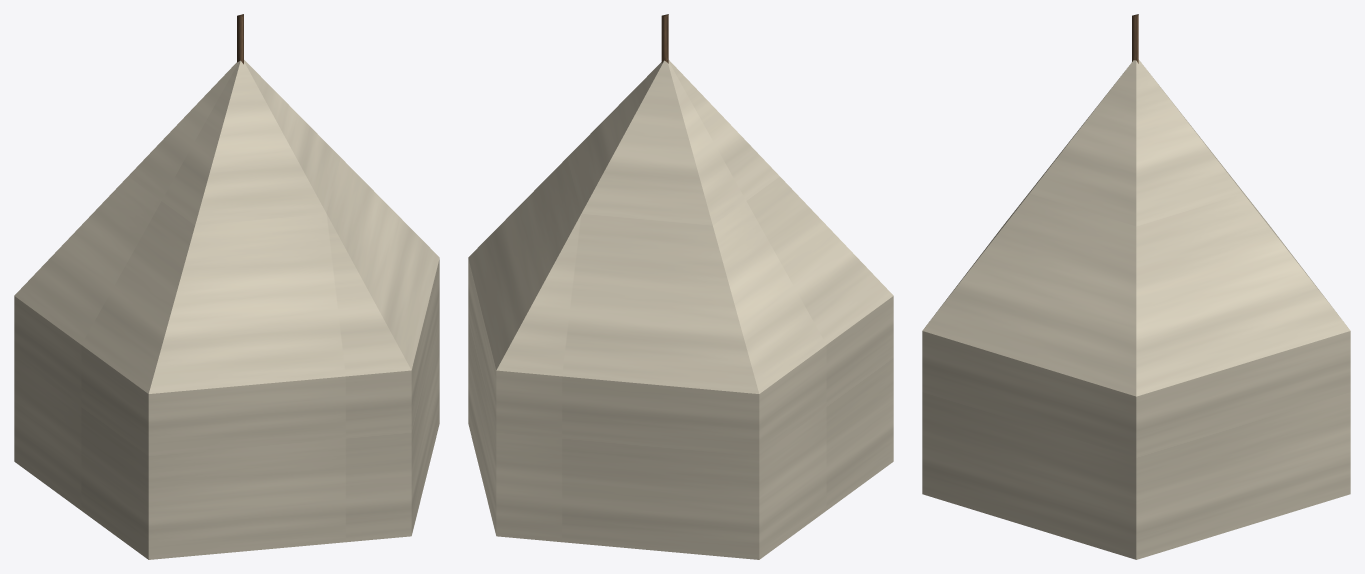
Rendered from Tent_Pavilion_1_LOD2.gltf.
3 views of the same model, side by side, from view 1: azimuth 30°, elevation 25°; view 2: azimuth 150°, elevation 25°; view 3: azimuth 270°, elevation 25° (orthographic).
Visible parts, largest first — view 1: Tent_Pavilion_1_LOD2; view 2: Tent_Pavilion_1_LOD2; view 3: Tent_Pavilion_1_LOD2.
Boxes of the visible parts, left/top/right/bottom form: Tent_Pavilion_1_LOD2: left=14, top=14, right=439, bottom=559; Tent_Pavilion_1_LOD2: left=468, top=14, right=893, bottom=559; Tent_Pavilion_1_LOD2: left=922, top=14, right=1350, bottom=559.
Size of the model in its own units: 3.62 by 4.4 by 3.8.
Materials: 2 (2 with a texture image).
